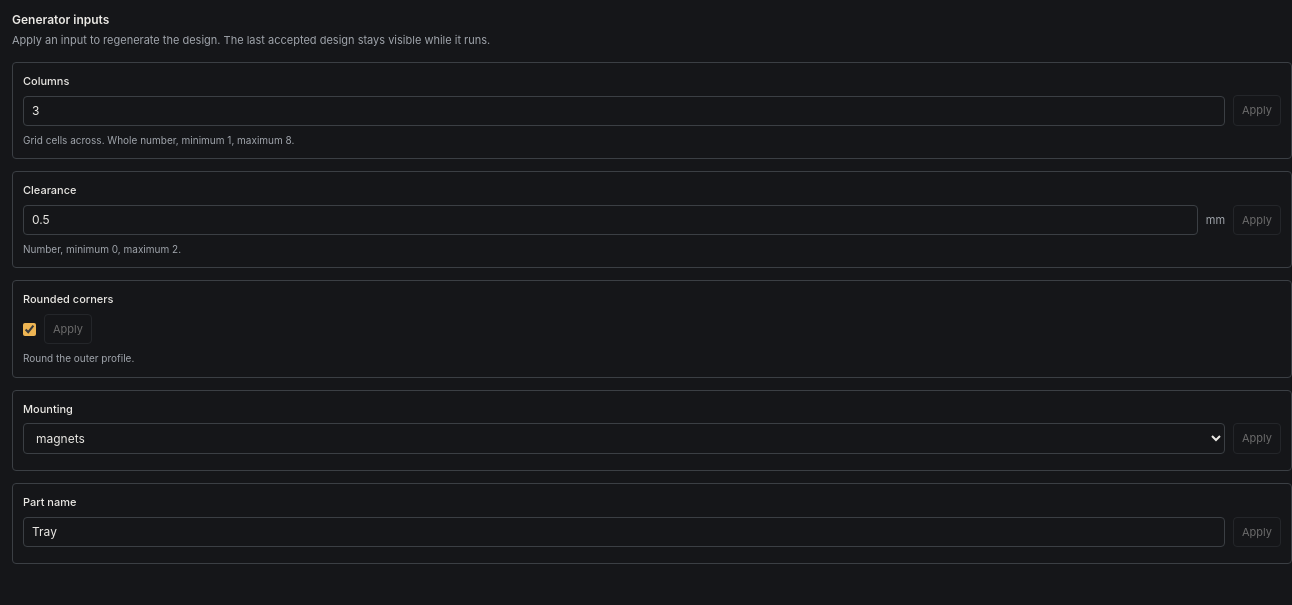
Test: source-driven generator inputs › retains a rejected draft and its error and permits retrying unchanged text
Replace the text in the field labelled "Columns" with "5" at (624, 111), box [23,96,1225,126]
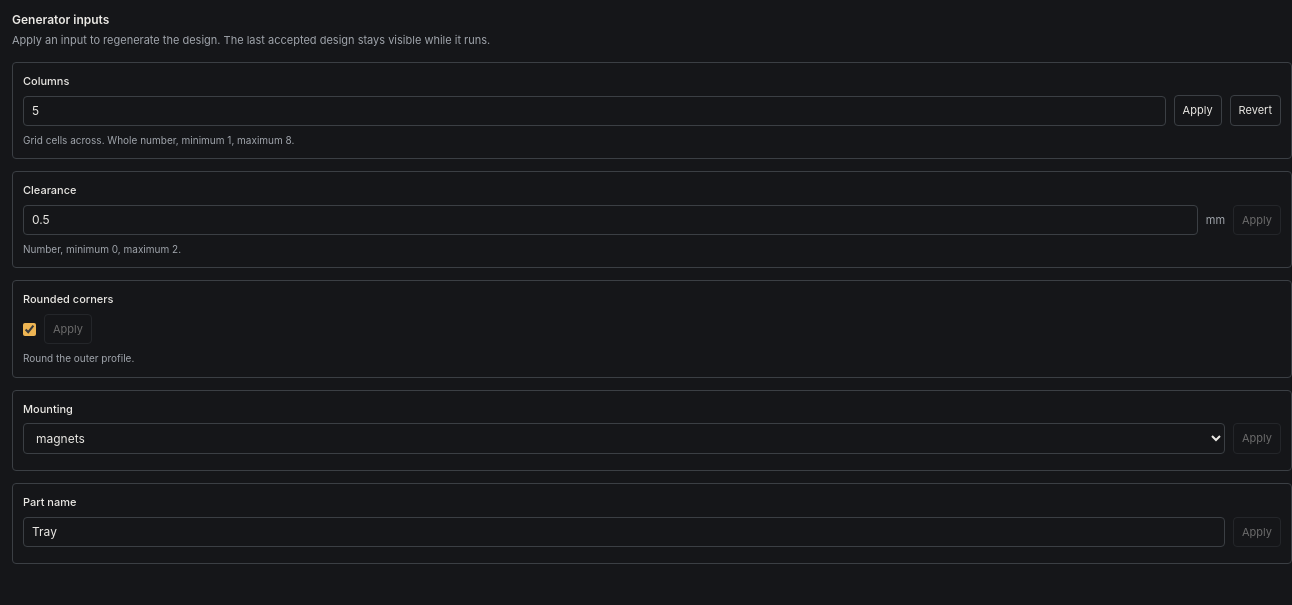
Click the button with aria-label "Apply Columns" at (1198, 111), box [1174,95,1222,126]
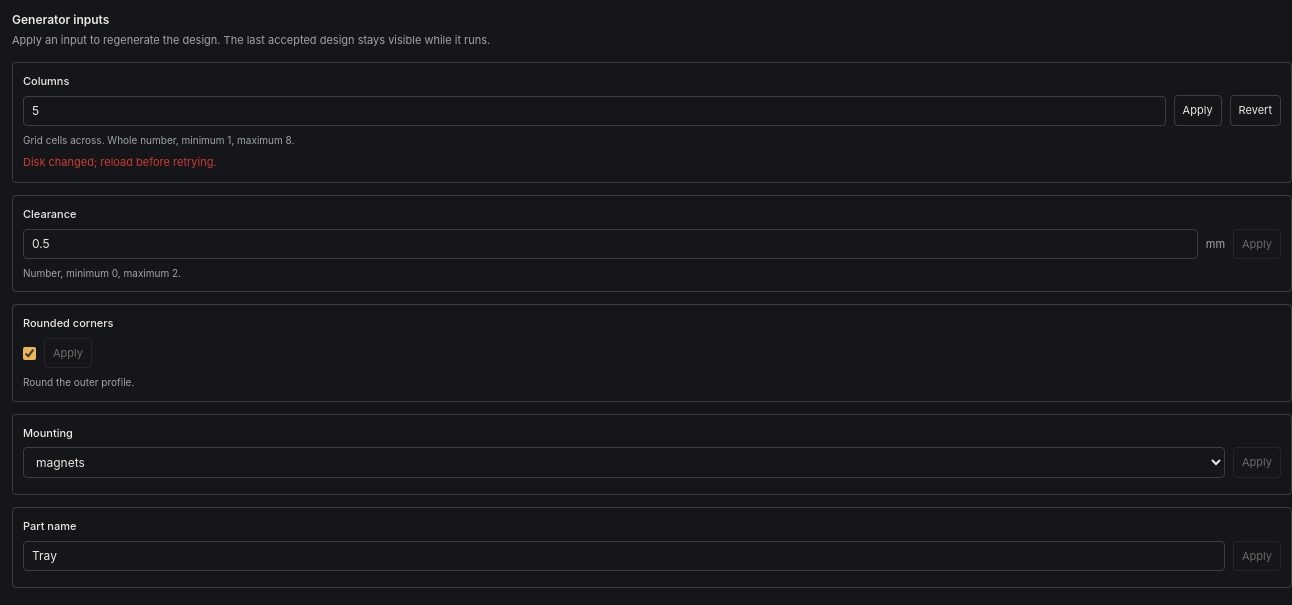
Expected: the button with aria-label "Apply Columns" is enabled
Expected: the message reads "Disk changed; reload before retrying.", [23,155,217,169]
Click the button with aria-label "Apply Columns" at (1198, 111), box [1174,95,1222,126]
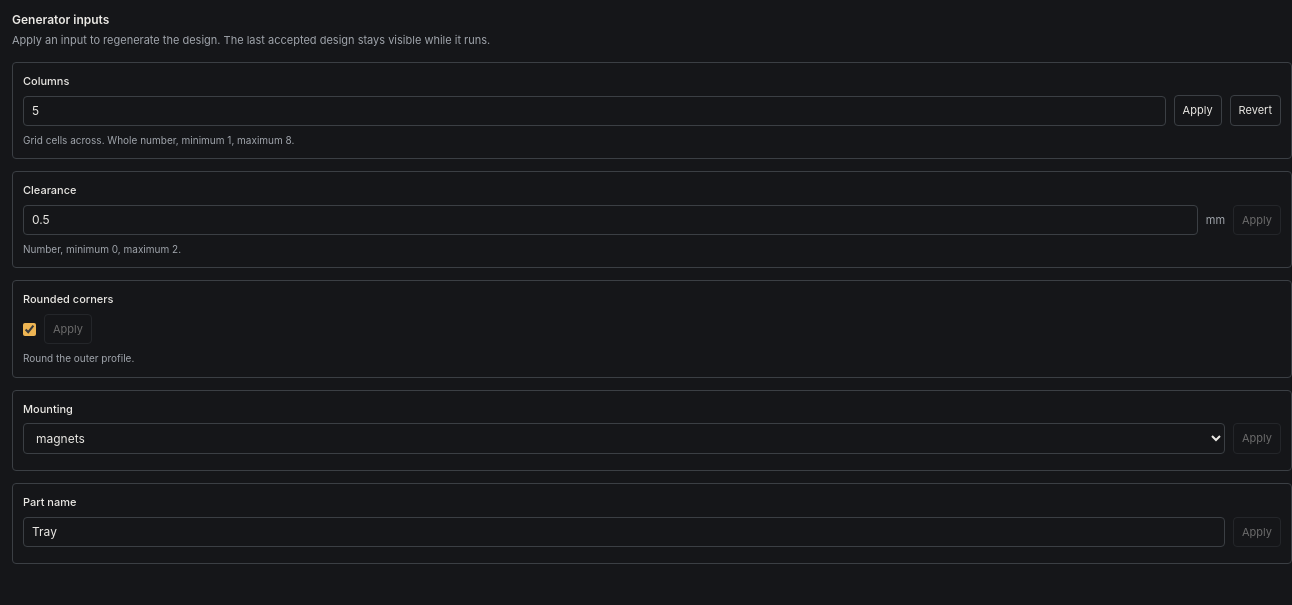
Expected: the message "Disk changed; reload before retrying." is gone
